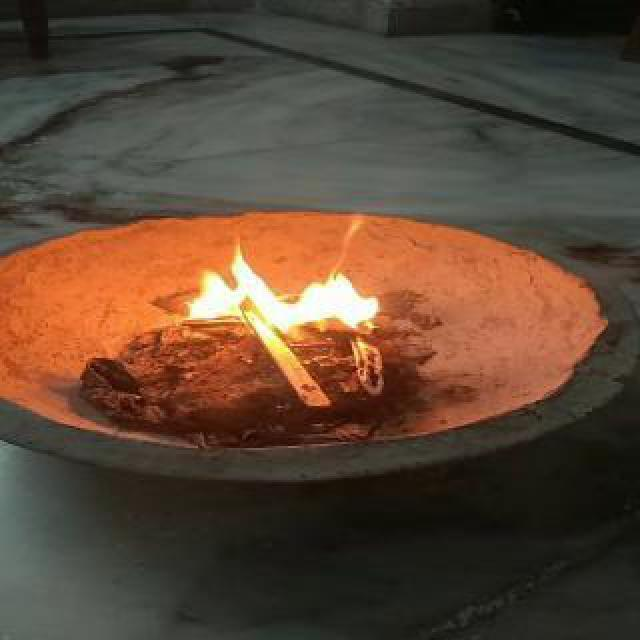Fire: (162, 220, 380, 350)
